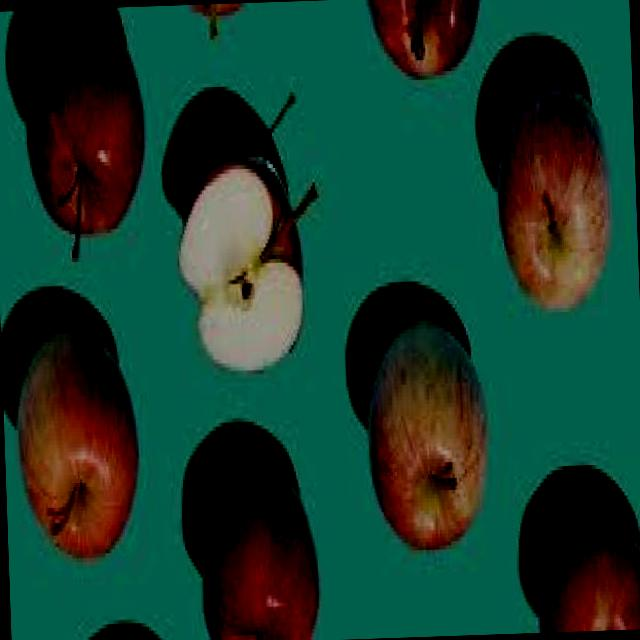Apple: (175, 146, 325, 376), (22, 18, 150, 267), (15, 327, 144, 568), (364, 318, 492, 556), (494, 80, 615, 318), (198, 462, 322, 640), (536, 509, 640, 632), (367, 0, 483, 85)
